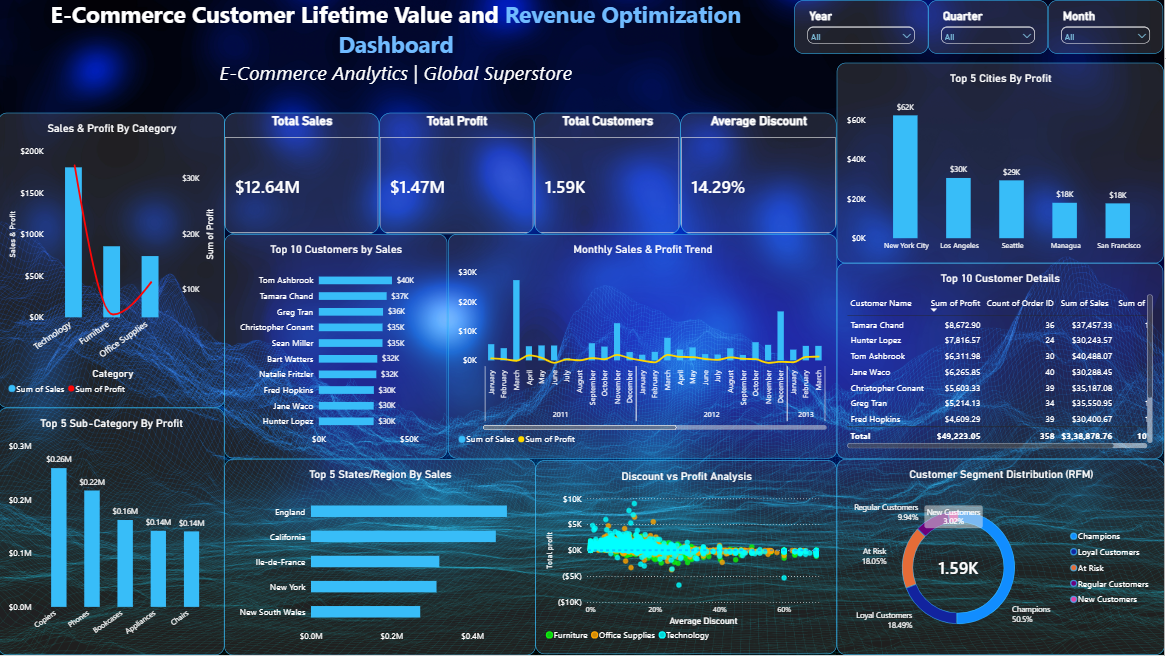

Layout of this report page (visuals, bound fields, positions):
{"tool":"powerbi","page":{"name":"Page 1","canvas":[1920,1080],"ordinal":0},"visuals":[{"type":"clusteredBarChart","title":"Top 10 Customers by  Sales","fields":{"Category":["Global_Superstore_Clean.Customer Name"],"Y":["Sum(Global_Superstore_Clean.Sales)"]},"box":[373.5,387.8,367.3,369.4],"z":0},{"type":"lineClusteredColumnComboChart","title":"Monthly Sales & Profit Trend","fields":{"Category":["Global_Superstore_Clean.Order Date.Variation.Date Hierarchy.Year","Global_Superstore_Clean.Order Date.Variation.Date Hierarchy.Month"],"Y":["Sum(Global_Superstore_Clean.Sales)"],"Y2":["Sum(Global_Superstore_Clean.Profit)"]},"box":[740.8,387.8,640.8,369.4],"z":1000},{"type":"scatterChart","title":"Discount vs Profit Analysis","fields":{"Category":["Global_Superstore_Clean.Customer ID"],"Series":["Global_Superstore_Clean.Category"],"X":["Avg(Global_Superstore_Clean.Discount)"],"Y":["Sum(Global_Superstore_Clean.Profit)"]},"box":[885.1,759.5,496.1,319],"z":2000},{"type":"lineClusteredColumnComboChart","title":"Sales & Profit By Category","fields":{"Category":["Global_Superstore_Clean.Category"],"Y":["Sum(Global_Superstore_Clean.Sales)"],"Y2":["Sum(Global_Superstore_Clean.Profit)"]},"box":[0,187.8,373.5,485.7],"z":3000},{"type":"columnChart","title":"Top 5 Sub-Category By Profit","fields":{"Category":["Global_Superstore_Clean.Sub-Category"],"Y":["Sum(Global_Superstore_Clean.Profit)"]},"box":[0,673.1,372.6,407.5],"z":4000},{"type":"clusteredBarChart","title":"Top 5 States/Region By Sales","fields":{"Category":["Global_Superstore_Clean.State"],"Y":["Sum(Global_Superstore_Clean.Sales)"]},"box":[372.6,757.5,512.5,323.2],"z":5000},{"type":"donutChart","title":"Customer Segment Distribution (RFM)","fields":{"Category":["RFM_Table.RFM_Segment"],"Y":["CountNonNull(RFM_Table.Customer ID)"]},"box":[1381.1,757.5,540,322],"z":6000},{"type":"clusteredColumnChart","title":"Top 5 Cities By Profit","fields":{"Category":["Global_Superstore_Clean.City"],"Y":["Sum(Global_Superstore_Clean.Profit)"]},"box":[1381.6,104.1,538.8,330.6],"z":7000},{"type":"tableEx","title":"Top 10 Customer Details","fields":{"Values":["Global_Superstore_Clean.Customer Name","Sum(Global_Superstore_Clean.Profit)","Global_Superstore_Clean.Order ID","Sum(Global_Superstore_Clean.Sales)","Sum(Global_Superstore_Clean.Discount)"]},"box":[1381.6,434.7,537.2,323.2],"z":8000},{"type":"slicer","title":"Order Period","fields":{"Values":["Global_Superstore_Clean.Order Date.Variation.Date Hierarchy.Year"]},"box":[1310.2,2,220.4,87.8],"z":9000},{"type":"slicer","fields":{"Values":["Global_Superstore_Clean.Order Date.Variation.Date Hierarchy.Month"]},"box":[1728.6,2,189.8,87.8],"z":10000},{"type":"slicer","title":"Order Period","fields":{"Values":["Global_Superstore_Clean.Order Date.Variation.Date Hierarchy.Quarter"]},"box":[1530.6,2,198,87.8],"z":11000},{"type":"cardVisual","title":"Total Sales","fields":{"Data":["Sum(Global_Superstore_Clean.Sales)"]},"box":[373.5,187.8,255.1,200],"z":12000},{"type":"cardVisual","title":"Total Profit","fields":{"Data":["Sum(Global_Superstore_Clean.Profit)"]},"box":[628.6,187.8,255.1,200],"z":13000},{"type":"cardVisual","title":" Customer Lifetime Value ","fields":{"Data":["Global_Superstore_Clean.Customer Lifetime Value"]},"box":[883.7,187.8,240.8,200],"z":14000},{"type":"cardVisual","title":"Average Order Value","fields":{"Data":["Global_Superstore_Clean.Average Order Value"]},"box":[1124.5,187.8,257.1,200],"z":15000},{"type":"textbox","box":[0,0,1310.2,155.1],"z":16000}]}

Visuals, with their boxes in screenshot pixels (x1, y1, x2, y2), scaled from the page's 1920x1080 canvas onto the 1166x656 screenshot:
"Top 10 Customers by  Sales" clusteredBarChart: x1=227, y1=236, x2=450, y2=460
"Monthly Sales & Profit Trend" lineClusteredColumnComboChart: x1=450, y1=236, x2=839, y2=460
"Discount vs Profit Analysis" scatterChart: x1=538, y1=461, x2=839, y2=655
"Sales & Profit By Category" lineClusteredColumnComboChart: x1=0, y1=114, x2=227, y2=409
"Top 5 Sub-Category By Profit" columnChart: x1=0, y1=409, x2=226, y2=655
"Top 5 States/Region By Sales" clusteredBarChart: x1=226, y1=460, x2=538, y2=655
"Customer Segment Distribution (RFM)" donutChart: x1=839, y1=460, x2=1165, y2=655
"Top 5 Cities By Profit" clusteredColumnChart: x1=839, y1=63, x2=1165, y2=264
"Top 10 Customer Details" tableEx: x1=839, y1=264, x2=1165, y2=460
"Order Period" slicer: x1=796, y1=1, x2=930, y2=55
slicer - Global_Superstore_Clean.Order Date.Variation.Date Hierarchy.Month: x1=1050, y1=1, x2=1165, y2=55
"Order Period" slicer: x1=930, y1=1, x2=1050, y2=55
"Total Sales" cardVisual: x1=227, y1=114, x2=382, y2=236
"Total Profit" cardVisual: x1=382, y1=114, x2=537, y2=236
" Customer Lifetime Value " cardVisual: x1=537, y1=114, x2=683, y2=236
"Average Order Value" cardVisual: x1=683, y1=114, x2=839, y2=236
textbox: x1=0, y1=0, x2=796, y2=94
